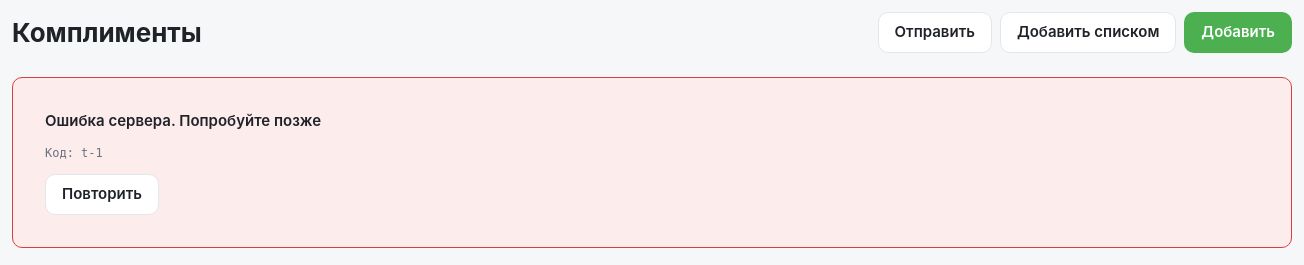
Scenario: ComplimentsPage › ошибка загрузки и повтор
expect the text "Ошибка сервера. Попробуйте позже" is shown: met, box top-left (45, 110), bottom-right (321, 132)
expect the text "Код: t-1" is shown: met, box top-left (45, 144), bottom-right (103, 162)
Step 1. Click the button "Повторить" → (102, 194), box top-left (45, 174), bottom-right (159, 214)
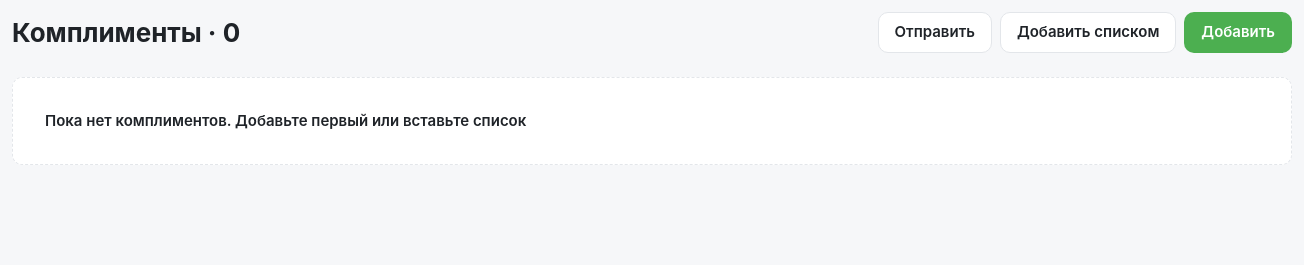
expect the text "Пока нет комплиментов. Добавьте первый или вставьте список" is shown: met, box top-left (45, 110), bottom-right (526, 132)
